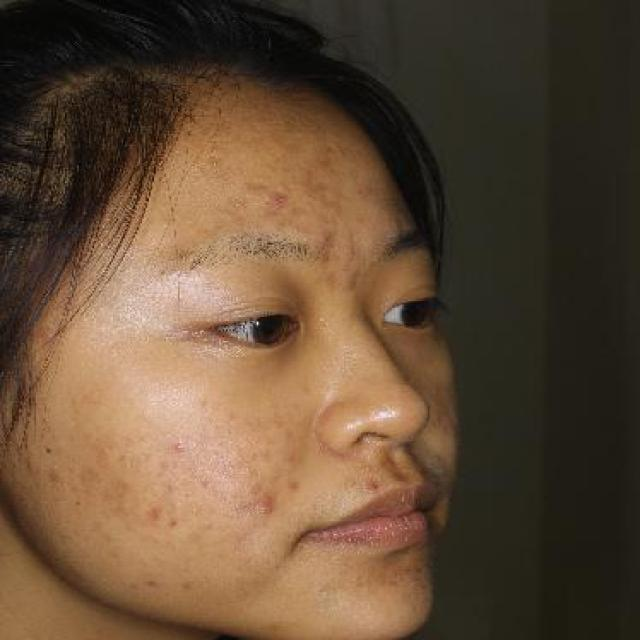Acne: (139, 501, 171, 522), (255, 492, 275, 522)
Whiteheads: (166, 438, 192, 456)
